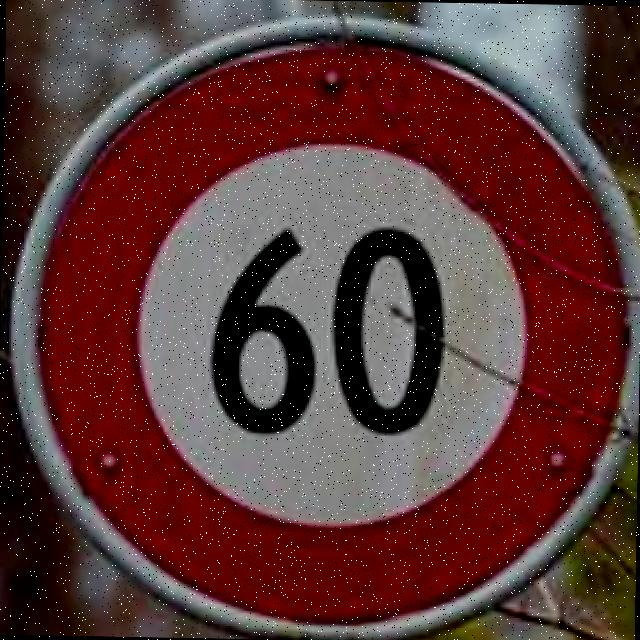Ograniczenie predkosci do 60: (10, 12, 639, 640)
